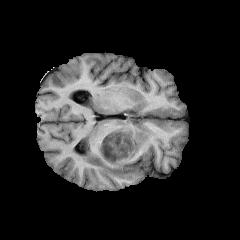glioma: (81, 115, 140, 179)
